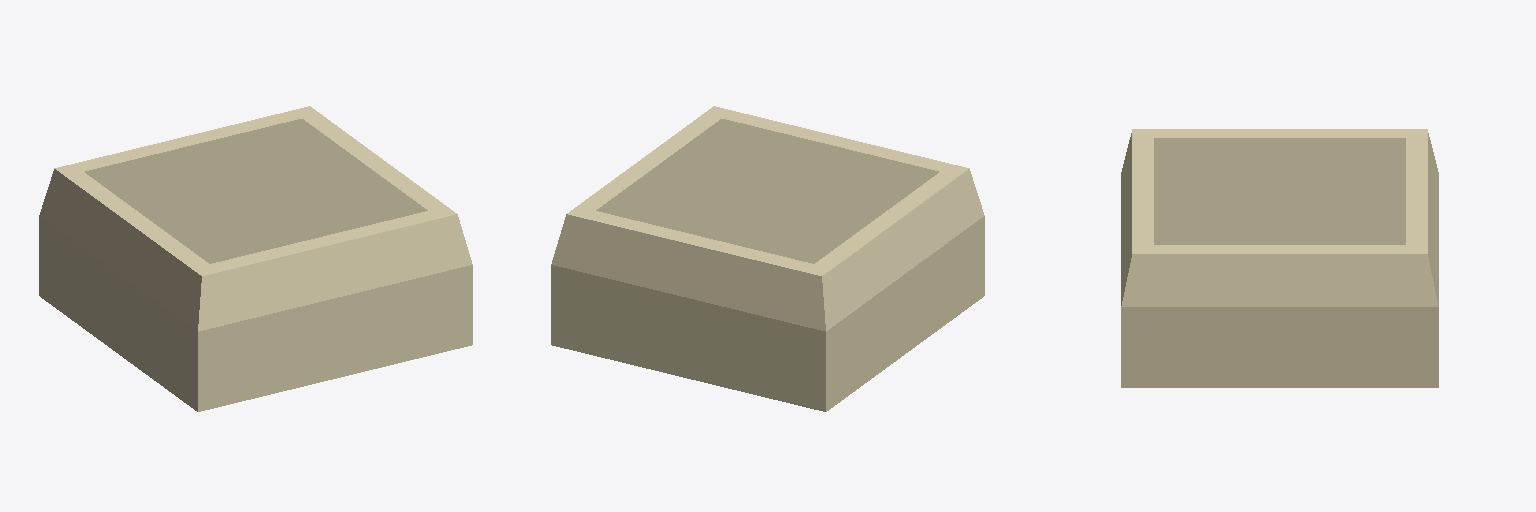
File: towerSquareBaseBorder.obj
3 views of the same model, side by side, from view 1: azimuth 30°, elevation 25°; view 2: azimuth 150°, elevation 25°; view 3: azimuth 270°, elevation 25° (orthographic).
Parts seen in each view (by area): view 1: towerSquareBaseBorder; view 2: towerSquareBaseBorder; view 3: towerSquareBaseBorder.
Boxes of the visible parts, box(x1,y1,x2,y2) form: towerSquareBaseBorder: box(39, 106, 472, 411); towerSquareBaseBorder: box(551, 106, 984, 411); towerSquareBaseBorder: box(1121, 129, 1438, 387).
Size of the model in its own units: 10 by 4.5 by 10.